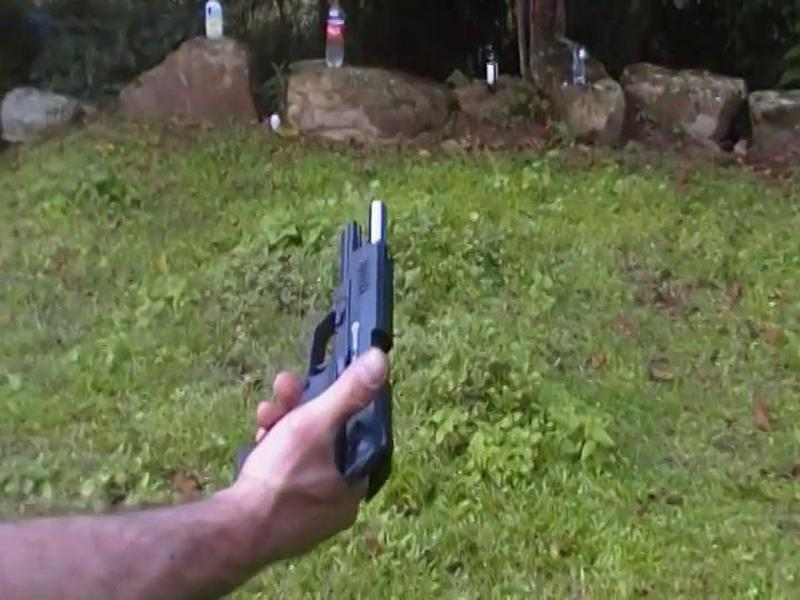Pistola: (228, 203, 415, 487)
